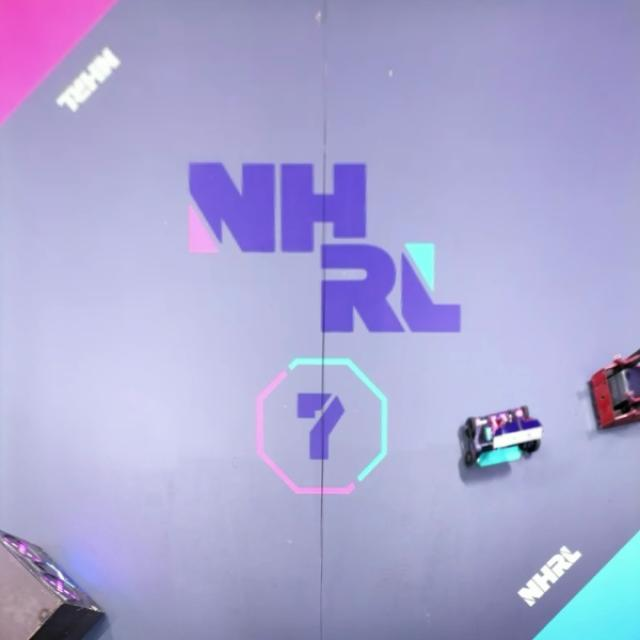housebot: (0, 531, 107, 640)
robot: (463, 404, 544, 470), (588, 346, 640, 430)
